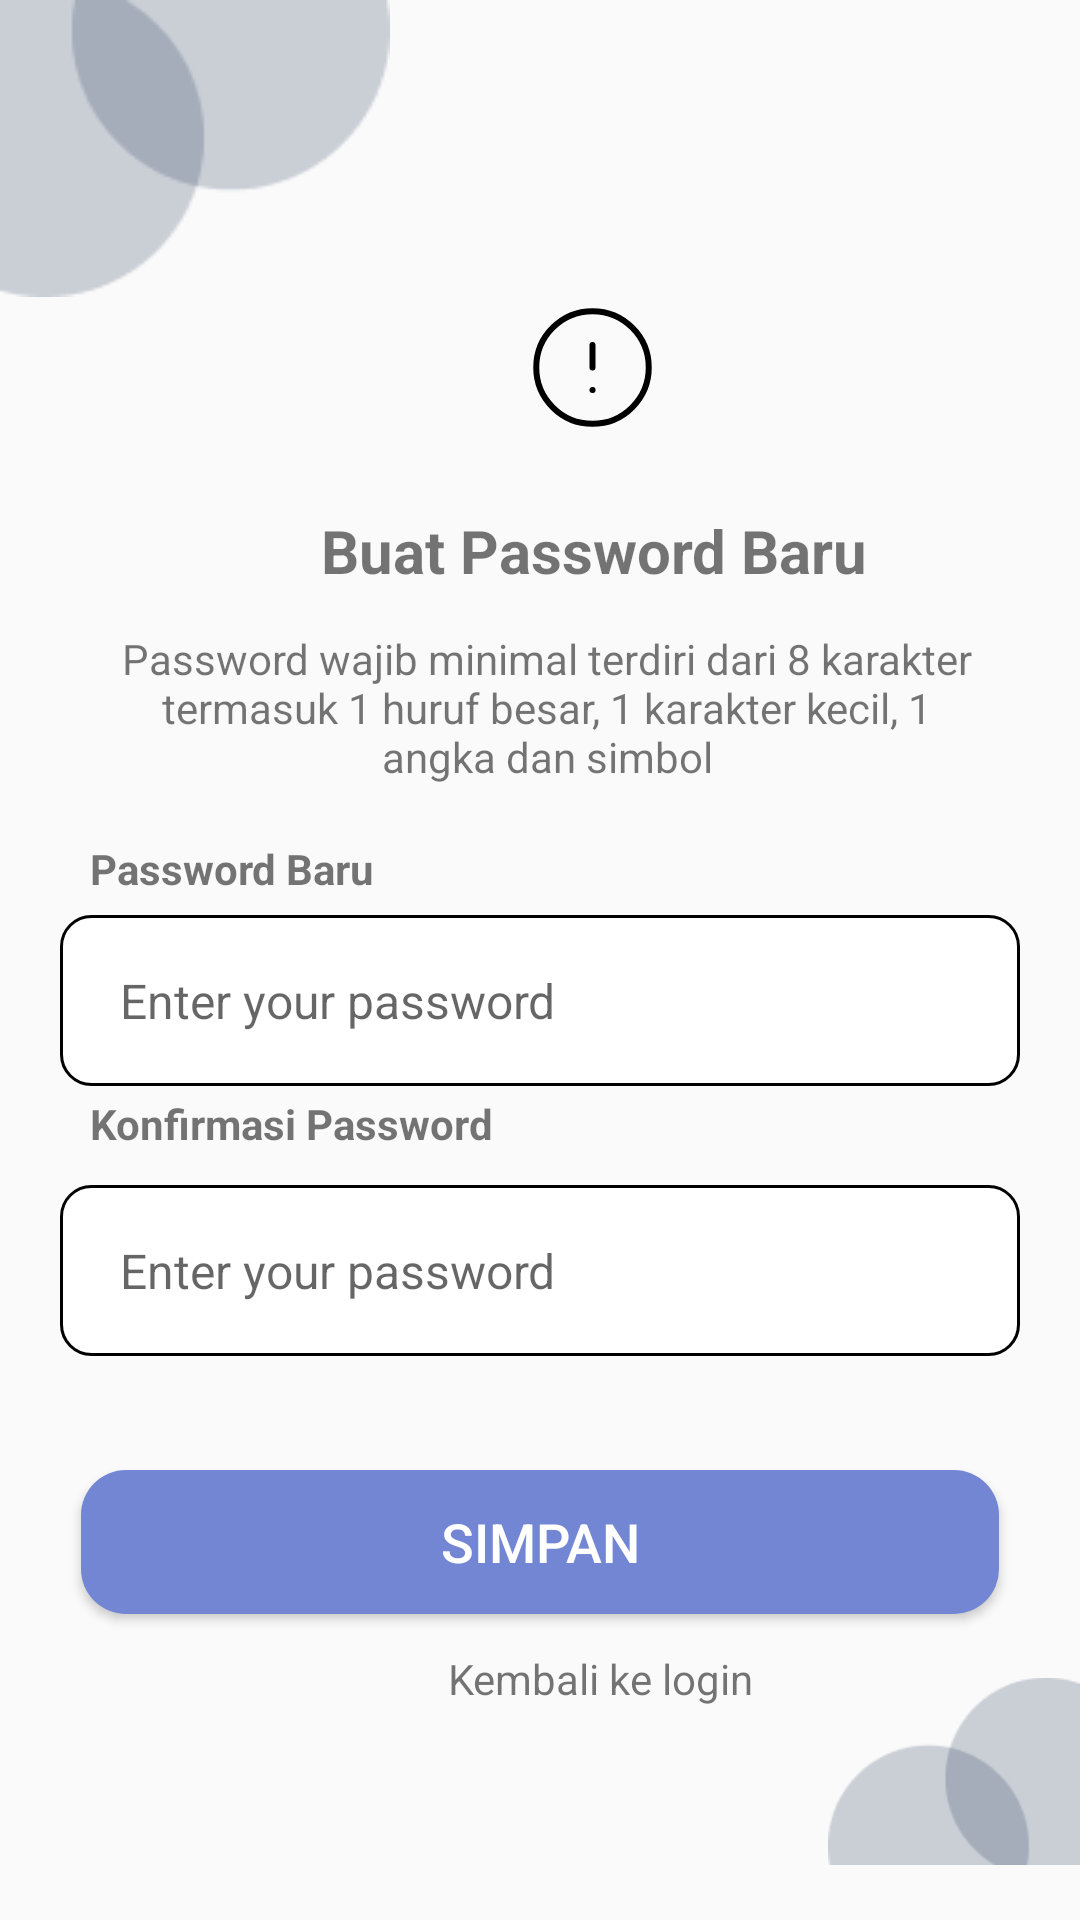

Icons on this 1080w x 1920h Android screen, each with its box as Rect(x1, y1, x2, y2):
alert circle: Rect(533, 308, 652, 427)
